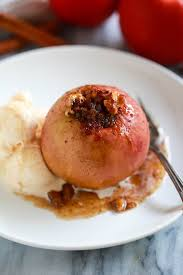damaged_apple: (42, 85, 151, 191)
